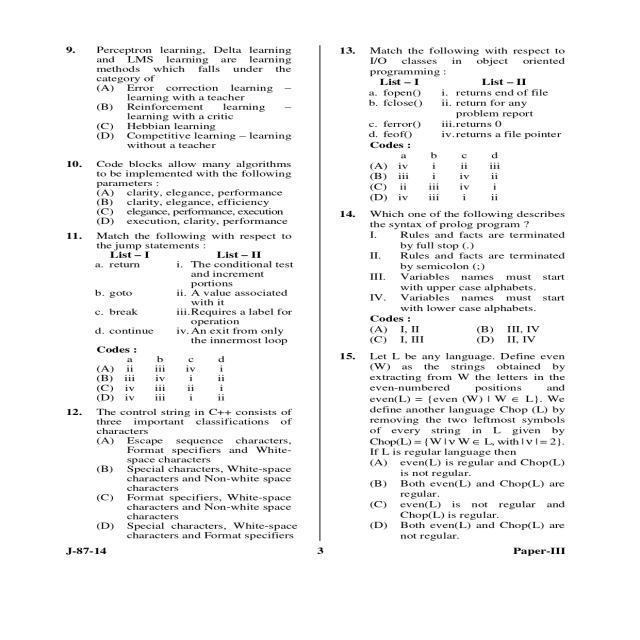Answer_Block: (62, 436, 316, 540), (326, 456, 578, 540), (61, 85, 318, 151), (325, 141, 578, 204), (61, 346, 315, 404), (61, 189, 316, 227), (324, 314, 578, 346)
Question_Answer_Block: (326, 350, 578, 540), (62, 230, 315, 404), (324, 40, 578, 204), (324, 206, 578, 346), (61, 407, 316, 540), (61, 41, 316, 151), (61, 159, 317, 227)
Question_Block: (63, 230, 316, 346), (324, 206, 578, 314), (327, 351, 578, 456), (324, 40, 578, 141), (61, 40, 316, 84), (60, 159, 316, 189), (61, 408, 316, 436)
Question_Paper_Area: (61, 41, 316, 540), (325, 39, 578, 540)
